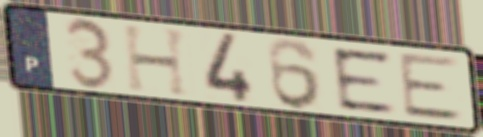3: (62, 15, 116, 93)
4: (201, 29, 257, 106)
6: (264, 35, 325, 113)
E: (396, 52, 468, 123), (328, 46, 401, 115)
H: (119, 23, 193, 100)
